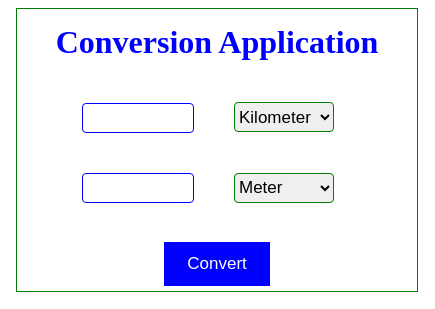
toggle selection on select › change first select field value when we select in second select field
The width and height of the screenshot is (435, 309).
Select "Kilometer" in the 2nd dropdown at (284, 188), box [234, 173, 334, 203]
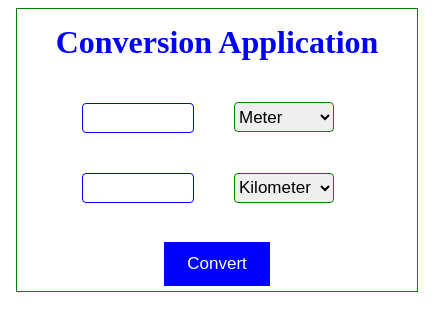
Now the 1st dropdown shows "Meter", box [234, 102, 334, 132]
